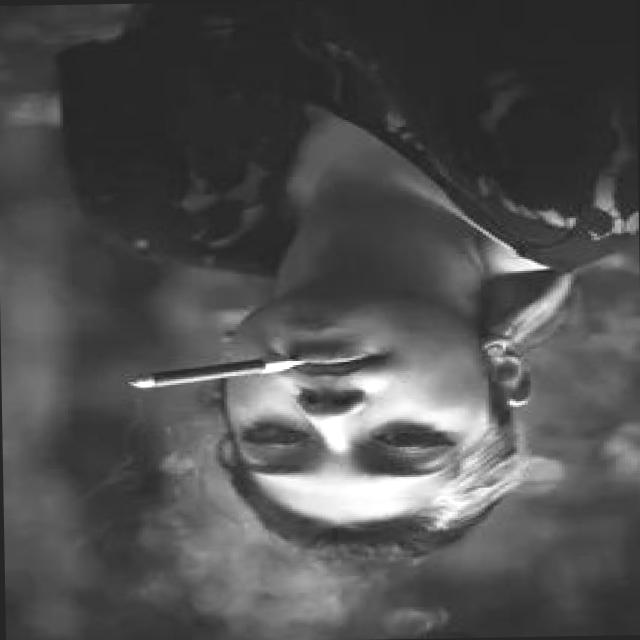smoke: (127, 344, 308, 394)
